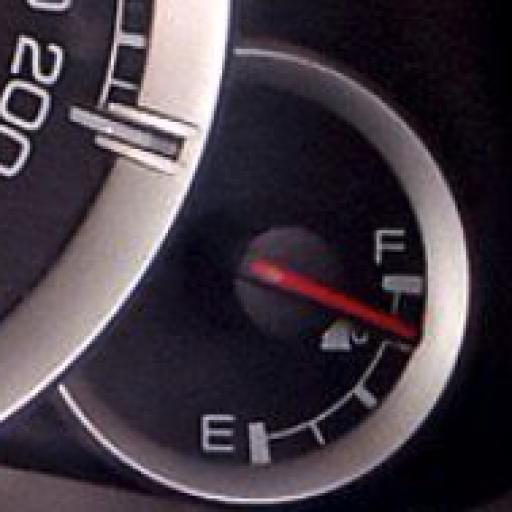empty: (198, 410, 239, 455)
full: (370, 223, 412, 268)
guage_area: (121, 45, 468, 503)
needle_center: (230, 226, 356, 336)
needle_tip: (371, 305, 417, 344)
